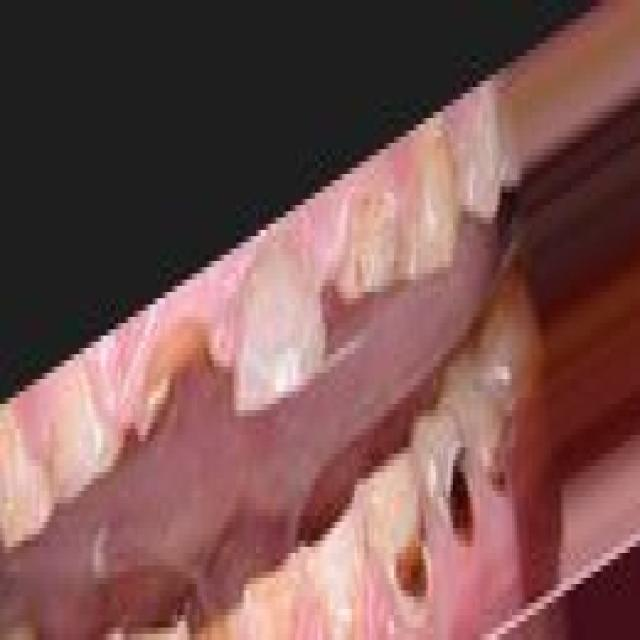caries: (131, 307, 221, 446), (336, 170, 402, 323), (380, 470, 438, 636), (438, 425, 487, 566)
